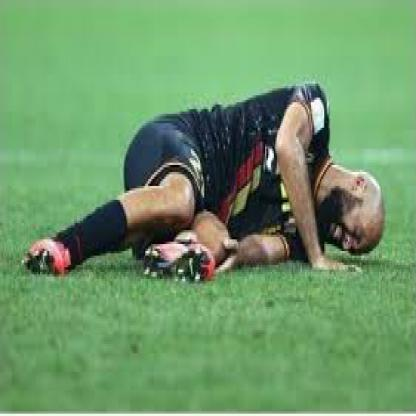Fall_Down: (21, 85, 387, 282)
